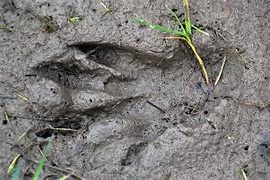fox: (173, 68, 257, 150), (29, 34, 106, 114)
